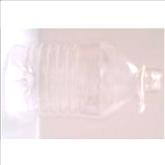bottle: (5, 38, 164, 120)
